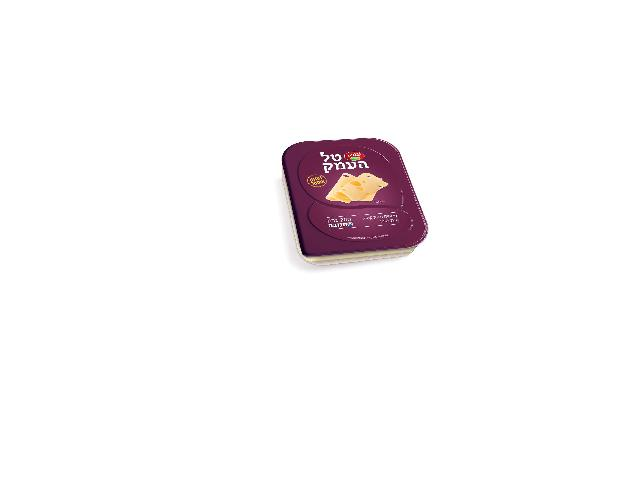cheese: (281, 136, 428, 264)
